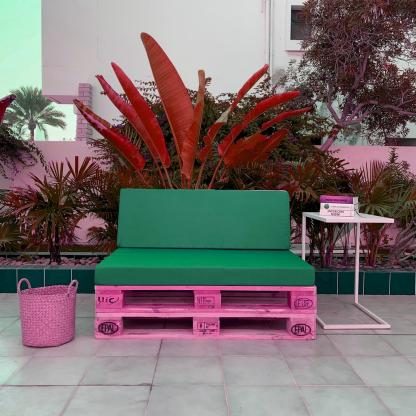BoxFace: (87, 312, 323, 345), (94, 282, 318, 314)
